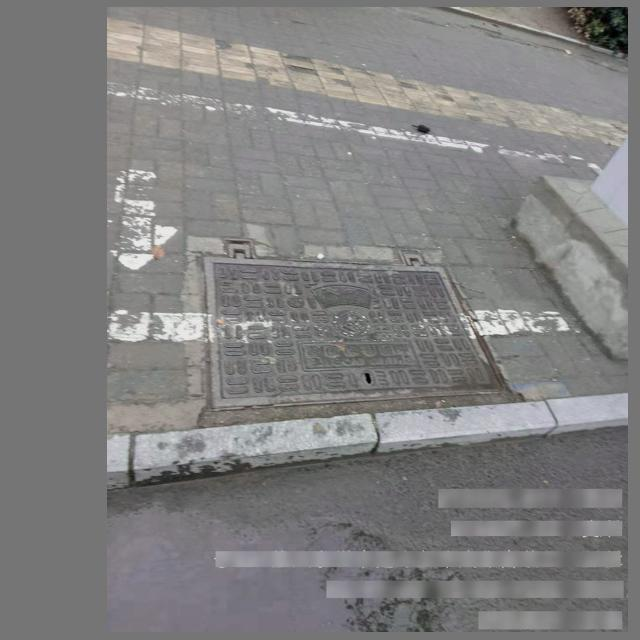good: (203, 239, 505, 414)
